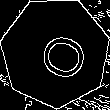O_NW: (24, 22, 87, 83)
